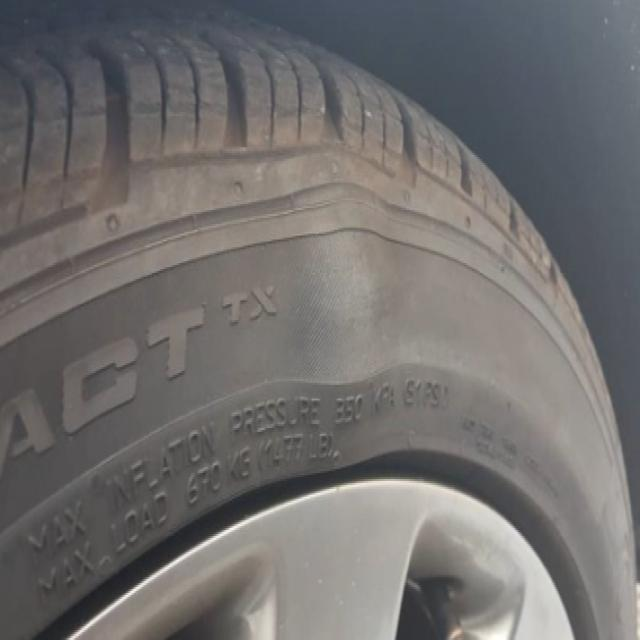Bulge: (268, 106, 420, 469)
